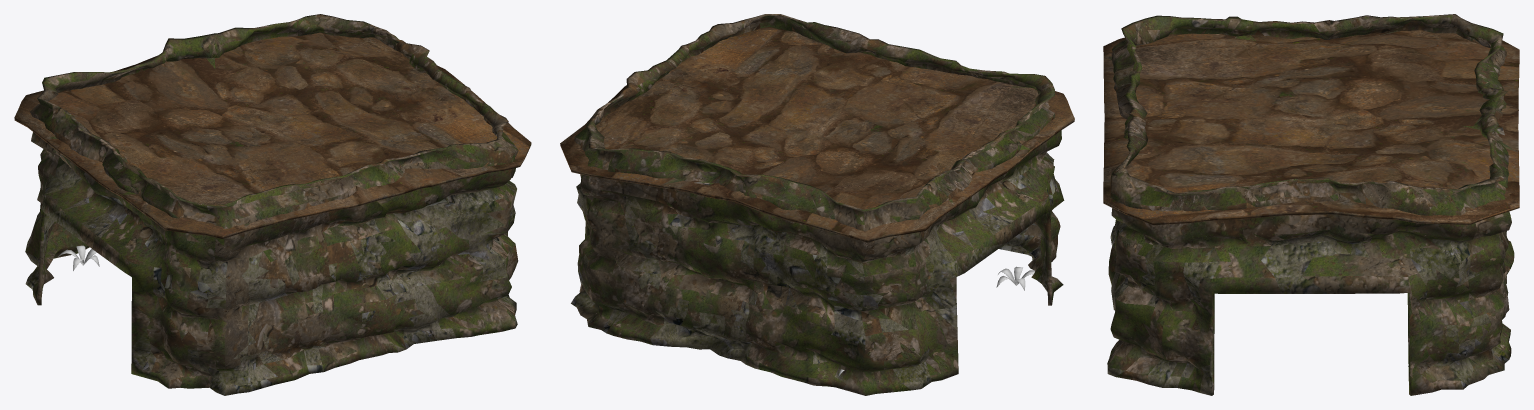
File: cavern_1_organic.obj
3 views of the same model, side by side, from view 1: azimuth 30°, elevation 25°; view 2: azimuth 150°, elevation 25°; view 3: azimuth 270°, elevation 25° (orthographic). The views are drawn at different scales.
Visible parts, largest first — view 1: cavern_1_Rock_skin; view 2: cavern_1_Rock_skin; view 3: cavern_1_Rock_skin.
Part boxes in pixels (bbox=[...]): cavern_1_Rock_skin: bbox=[14, 14, 531, 395]; cavern_1_Rock_skin: bbox=[560, 14, 1074, 395]; cavern_1_Rock_skin: bbox=[1103, 14, 1519, 395].
Size of the model in its own units: 918 by 446 by 830.
